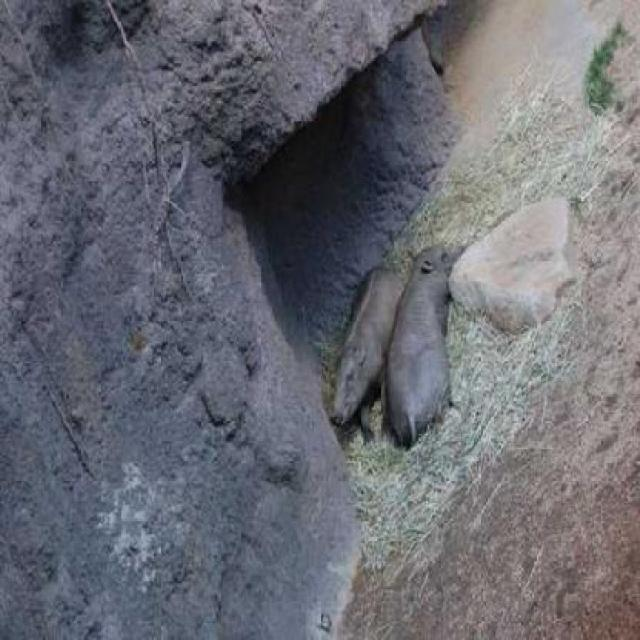pig: (389, 240, 488, 476), (326, 252, 395, 440)
